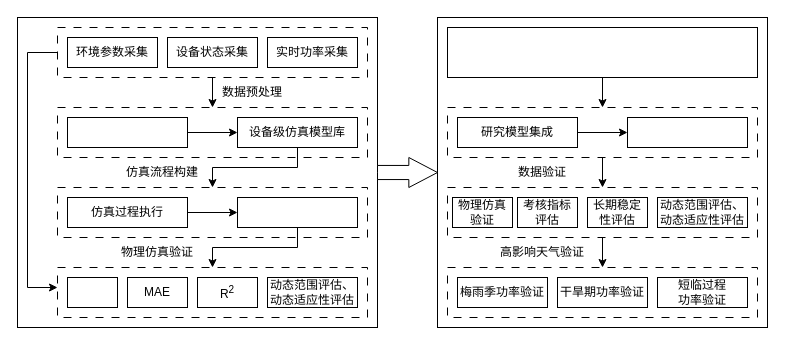
Image size: 785x345. Some labels were removed from this diagram. The shapes that lost their labels are listed below. From the top down, each one's centre as x and y in pixels, then its label:
[602,52]: 数据采集与处理
[127,132]: Simulink仿真引擎
[687,132]: 智能化调度
[297,212]: 功率仿真结果
[92,292]: RMSE
